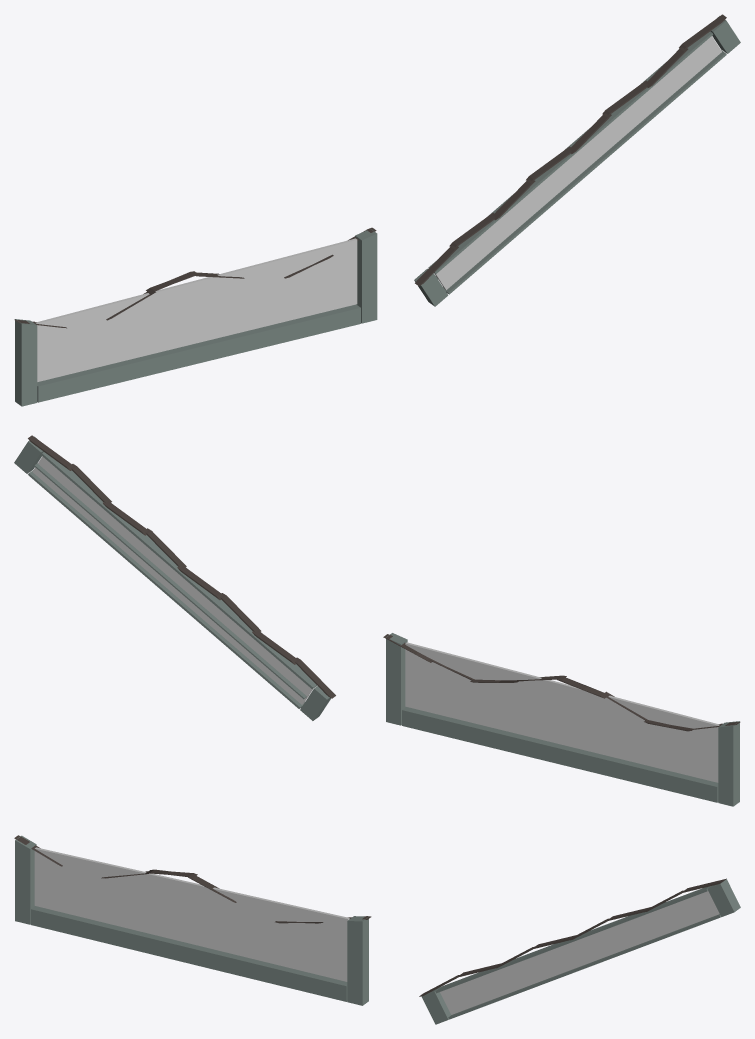
The model's file is SM_PuertaViaDoble_v3_MallaEspino_e2_MuyDanado_LOD1.fbx.
3 views of the same model, one above another, from view 1: azimuth 30°, elevation 25°; view 2: azimuth 150°, elevation 25°; view 3: azimuth 330°, elevation 25° (orthographic). The views are drawn at different scales.
Parts seen in each view (by area): view 1: Hoja_O, Hoja_E; view 2: Hoja_O, Hoja_E; view 3: Hoja_O, Hoja_E.
Boxes of the visible parts, x1,y1,x2,y2 form: Hoja_O: (14, 227, 377, 406); Hoja_E: (414, 14, 740, 306); Hoja_O: (383, 633, 740, 806); Hoja_E: (14, 435, 335, 720); Hoja_O: (14, 835, 371, 1005); Hoja_E: (419, 878, 740, 1024).
Size of what is drawn, in the model's own units: 7.55 by 2.15 by 0.295.
